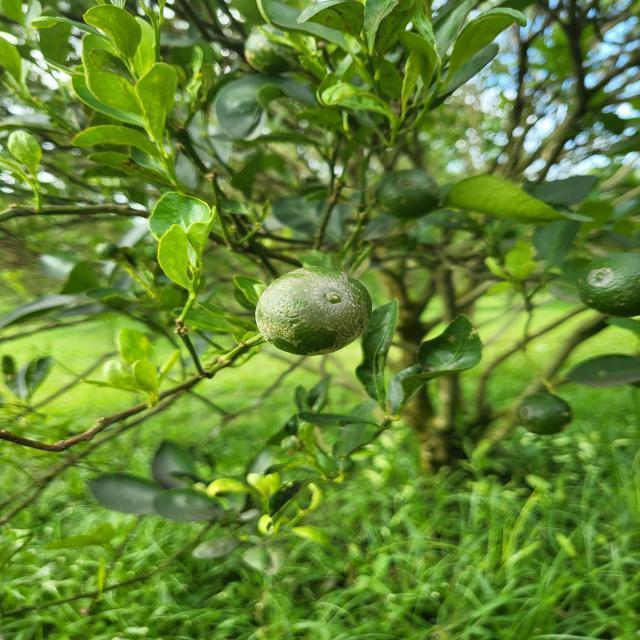thrips: (249, 262, 377, 356)
